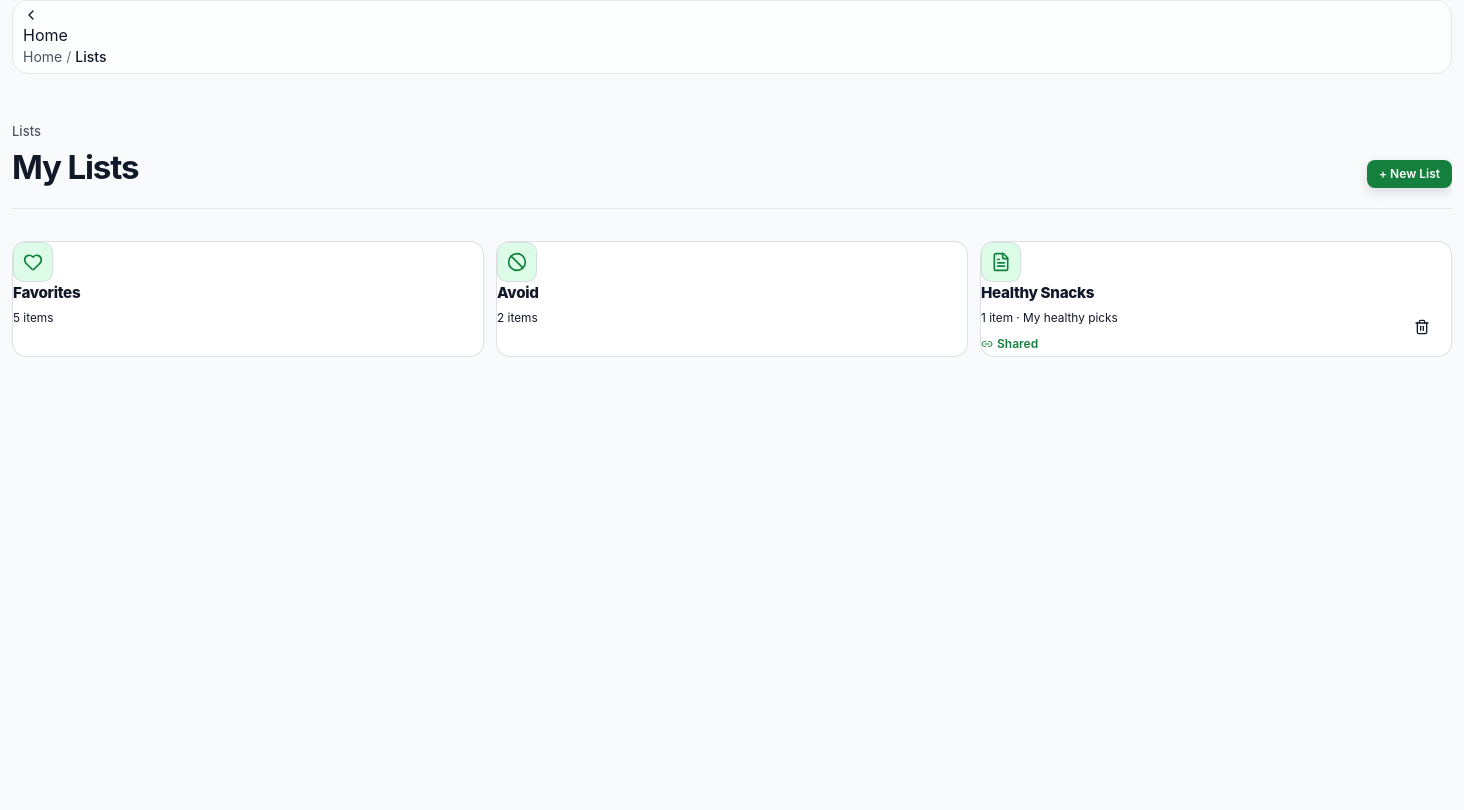
Test: ListsPage › create form inputs have aria-labels for accessibility
The width and height of the screenshot is (1464, 810).
Click the button "+ New List": (1410, 174) [1367,160,1452,188]
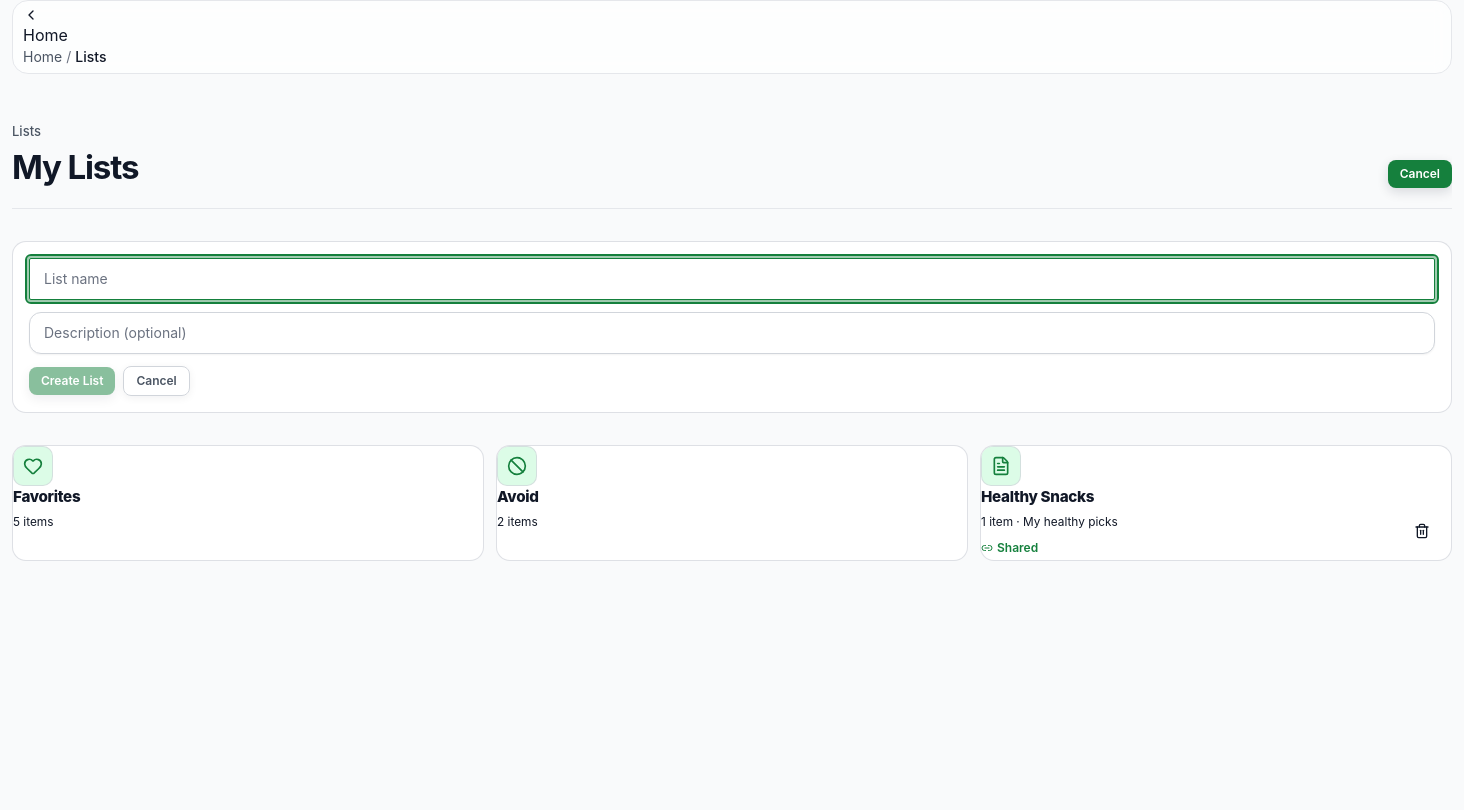
Result: the field labelled "List name" is shown at [29,258,1435,300]
Result: the field named "List description" is shown at [29,312,1435,354]
